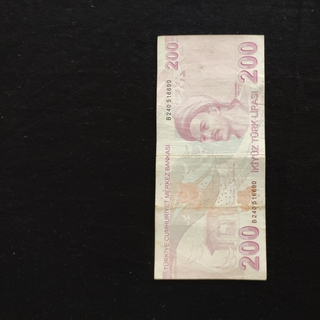200TLBack: (153, 34, 268, 281)
